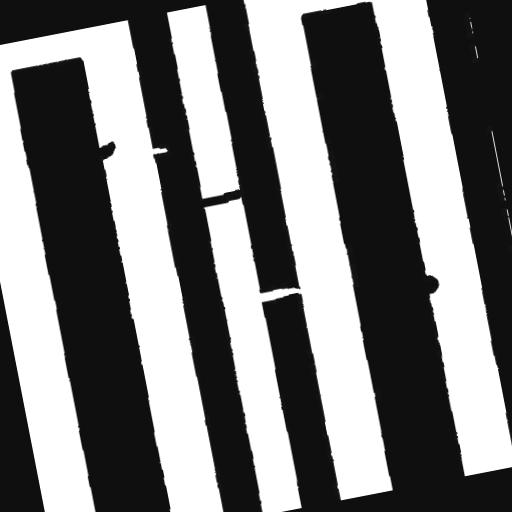mousebite: (138, 136, 176, 164)
open: (246, 274, 314, 312)
short: (190, 180, 252, 216)
spur: (83, 132, 126, 170), (410, 265, 449, 304)
